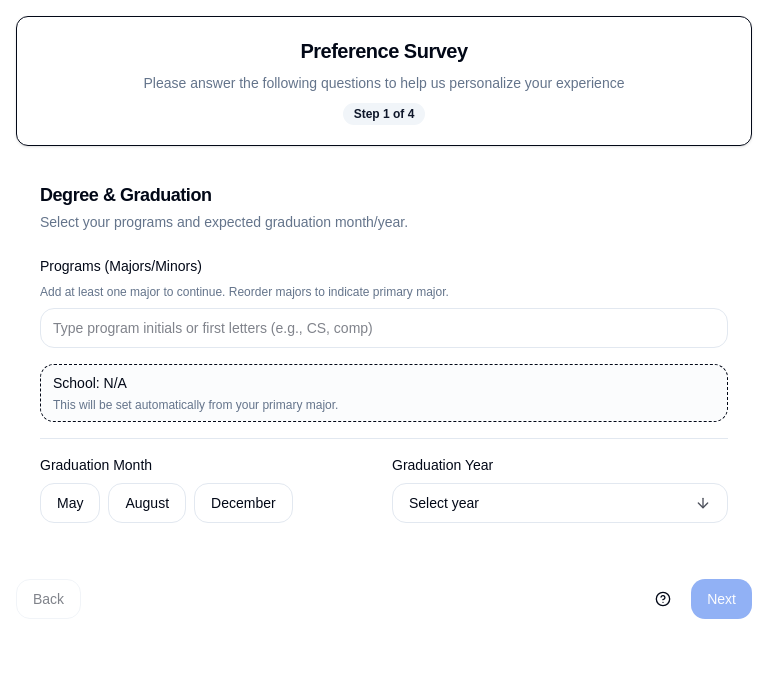
Onboard survey › adding Mathematics and setting it primary shows Krieger School of Arts & Sciences
The image size is (769, 674).
In the field with test id "program-search": (384,328) x1=40 y1=308 x2=728 y2=348, type "CS"
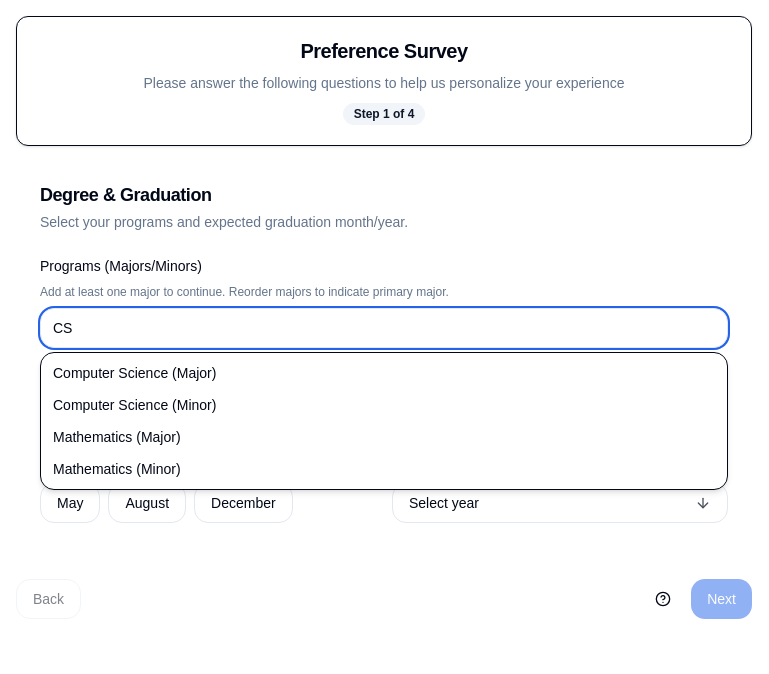
Click the button "Computer Science (Major)": (135,373) x1=45 y1=357 x2=723 y2=389
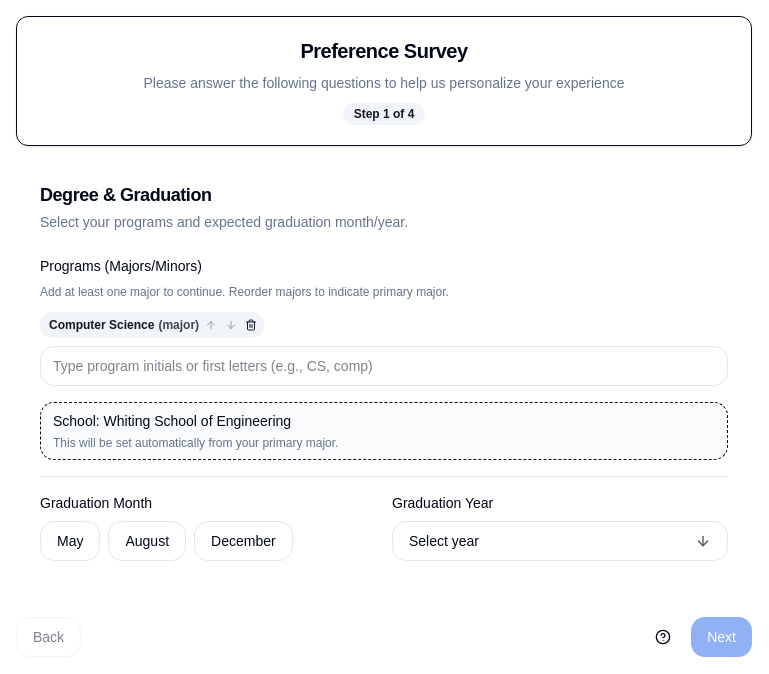
In the field with test id "program-search": (384,366) x1=40 y1=346 x2=728 y2=386, type "math"
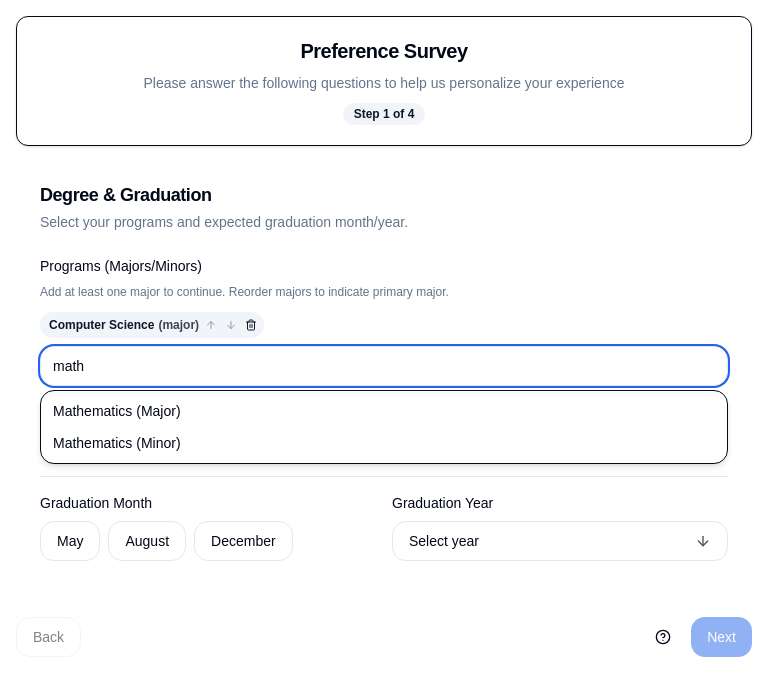
Click the button "Mathematics (Major)": (117,411) x1=45 y1=395 x2=723 y2=427
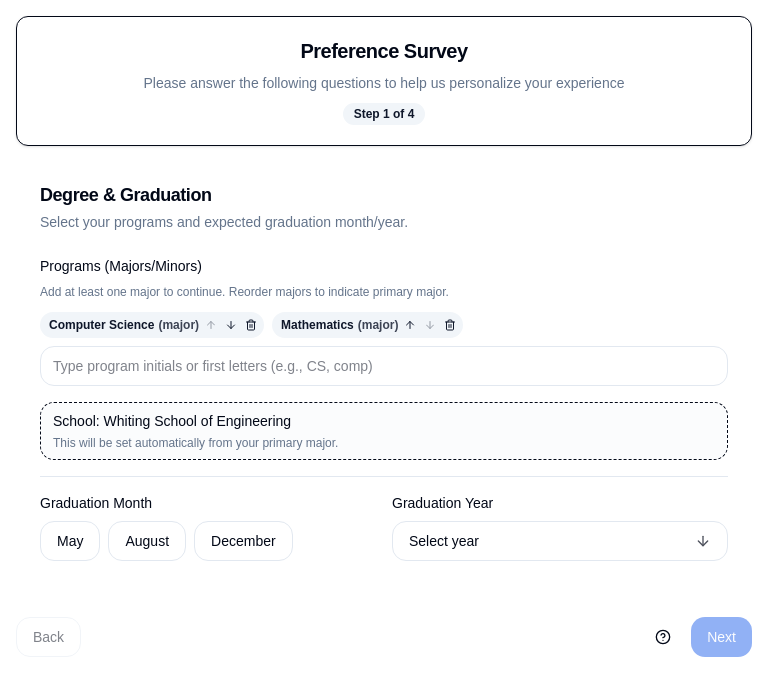
Result: the text "Computer Science" is shown at x1=49 y1=317 x2=154 y2=333
Result: the text "Mathematics" is shown at x1=281 y1=317 x2=354 y2=333
Click the button named "Move major up" in the row of "Mathematics": (410,325) x1=402 y1=317 x2=418 y2=333
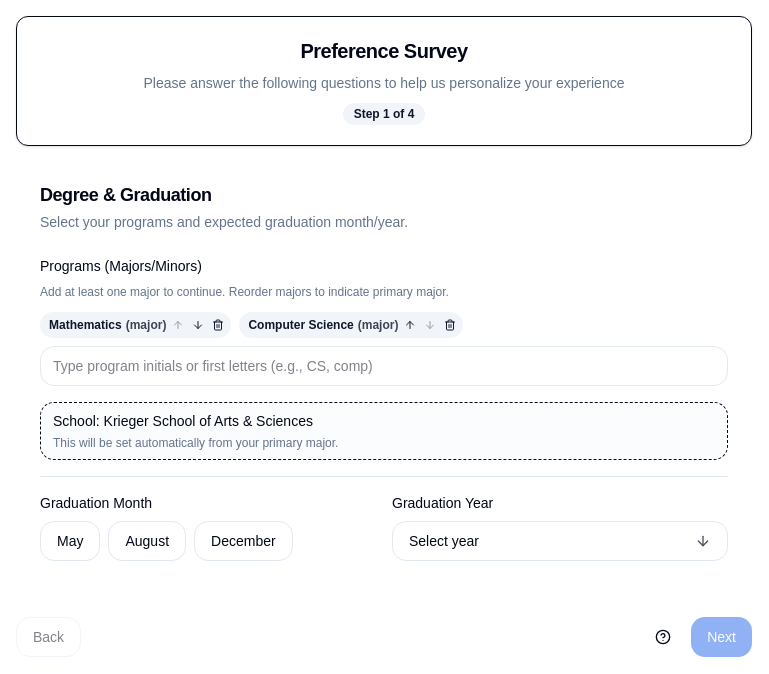
Result: the element with test id "school-display" shows "Krieger School of Arts & Sciences" at x1=104 y1=413 x2=313 y2=429
